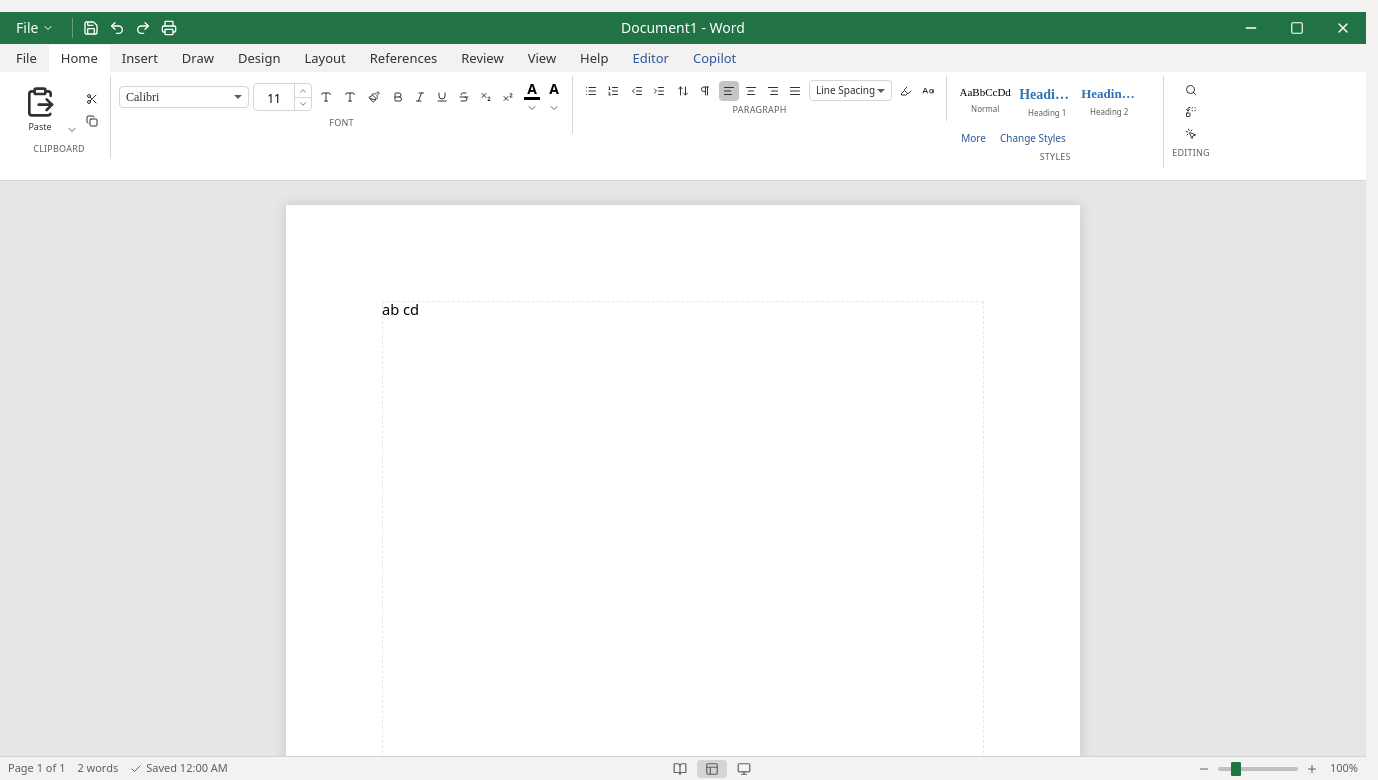
Test case: WordEditor (full mount) › toggles the status-bar counter between words and characters
The width and height of the screenshot is (1378, 780).
Click the button "2 words" at (98, 769), box [77,760,118,777]
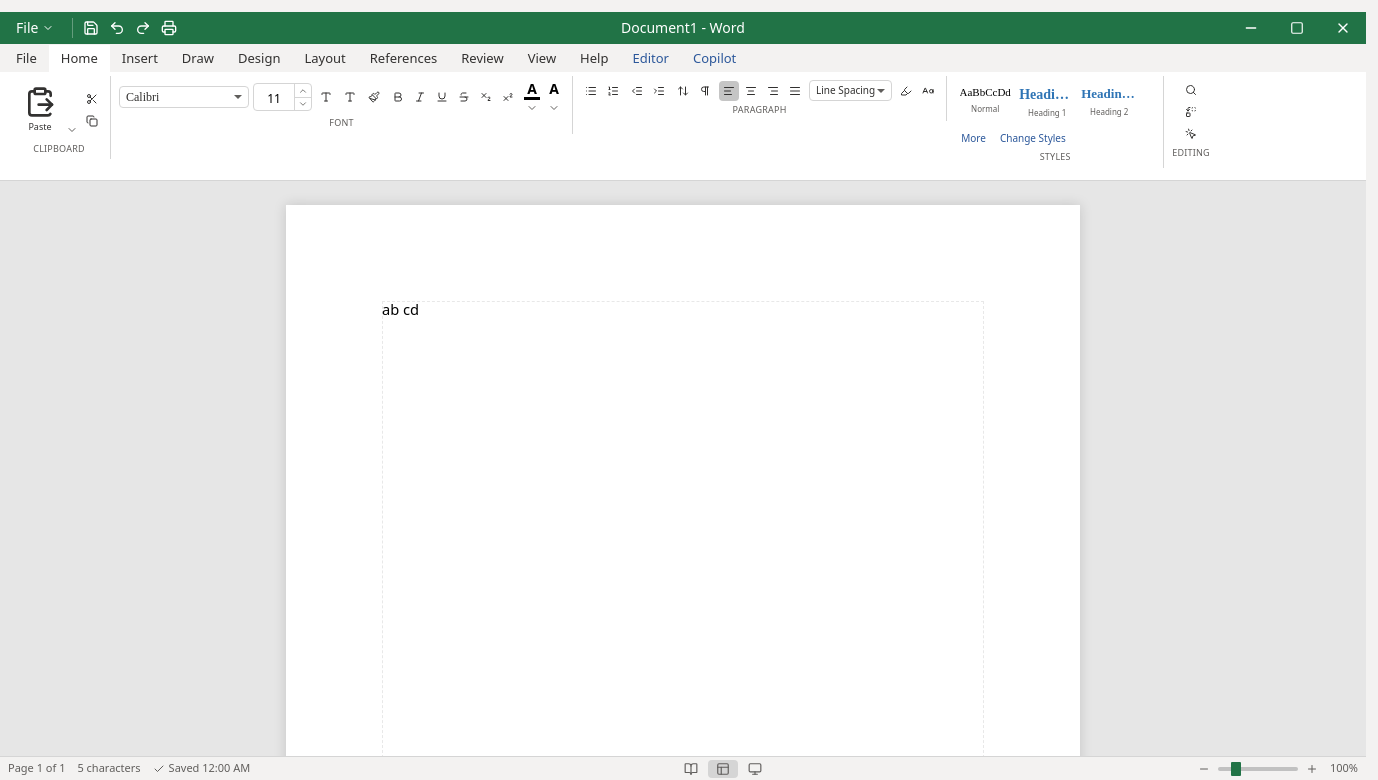
Expected: the button "5 characters" is shown, [77,760,141,777]
